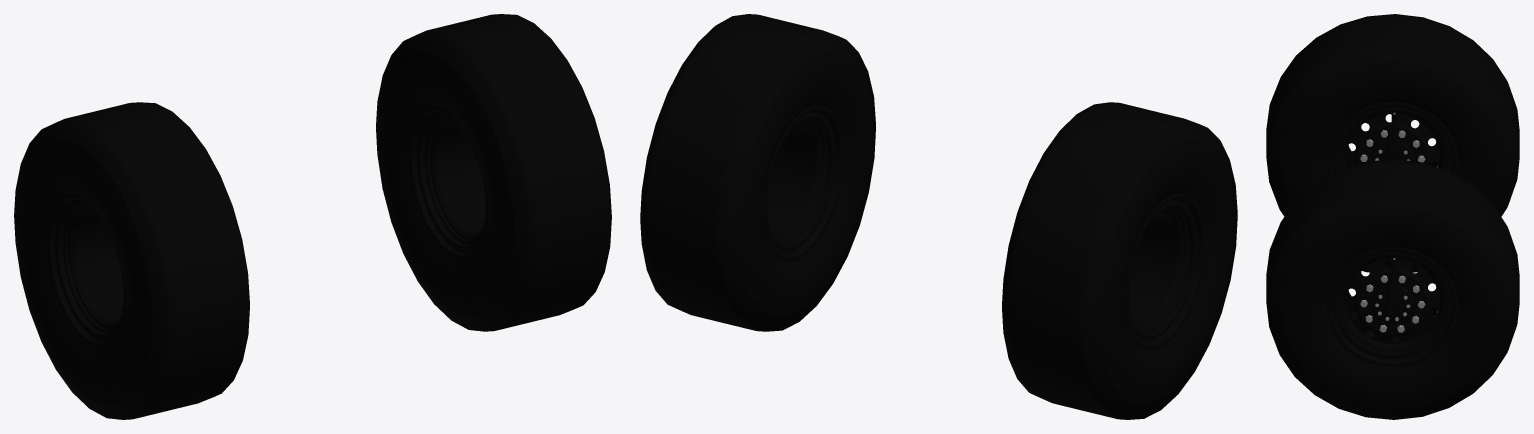
Rendered from wheels.gltf.
The picture shows the model from 3 angles, left to right: view 1: azimuth 30°, elevation 25°; view 2: azimuth 150°, elevation 25°; view 3: azimuth 270°, elevation 25°; orthographic projection. The views are drawn at different scales.
Visible parts, largest first — view 1: Object_2.001, Object_2; view 2: Object_2, Object_2.001; view 3: Object_2, Object_2.001.
Boxes of the visible parts, x1,y1,x2,y2 form: Object_2.001: [14, 102, 249, 419]; Object_2: [376, 14, 611, 331]; Object_2: [640, 14, 875, 331]; Object_2.001: [1002, 102, 1237, 419]; Object_2: [1266, 159, 1519, 419]; Object_2.001: [1266, 14, 1519, 272].
Size of the model in its own units: 4.66 by 2.67 by 2.67.
Materials: 1 (1 with a texture image).
